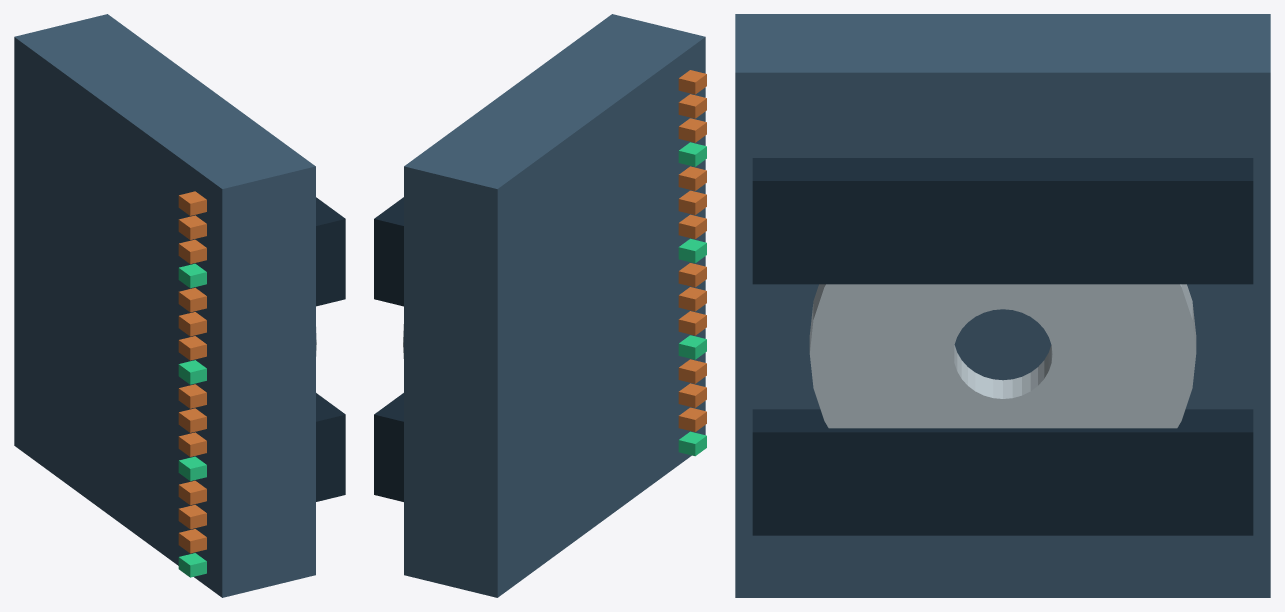
File: 09_L75_MassResolvingAperture.fbx
3 renders of one model, left to right at view 1: azimuth 30°, elevation 25°; view 2: azimuth 150°, elevation 25°; view 3: azimuth 270°, elevation 25°, orthographic. The views are drawn at different scales.
Parts seen in each view (by area): view 1: MassResolvingAperture, MassResolvingAperture_Part_0002, MassResolvingAperture_Part_0001; view 2: MassResolvingAperture, MassResolvingAperture_Part_0002, MassResolvingAperture_Part_0001; view 3: MassResolvingAperture, MassResolvingAperture_Part_0002, MassResolvingAperture_Part_0001, MassResolvingAperture_Part_0003.
Part boxes in pixels (<box>): MassResolvingAperture: <box>14,14,315,597</box>; MassResolvingAperture_Part_0002: <box>316,197,345,306</box>; MassResolvingAperture_Part_0001: <box>316,393,345,501</box>; MassResolvingAperture: <box>404,14,706,597</box>; MassResolvingAperture_Part_0002: <box>374,197,403,306</box>; MassResolvingAperture_Part_0001: <box>374,393,403,501</box>; MassResolvingAperture: <box>735,14,1270,597</box>; MassResolvingAperture_Part_0002: <box>752,158,1253,284</box>; MassResolvingAperture_Part_0001: <box>752,409,1253,535</box>; MassResolvingAperture_Part_0003: <box>809,284,1196,428</box>.
Bounding box in the file's own units: 44 × 117 × 108.
